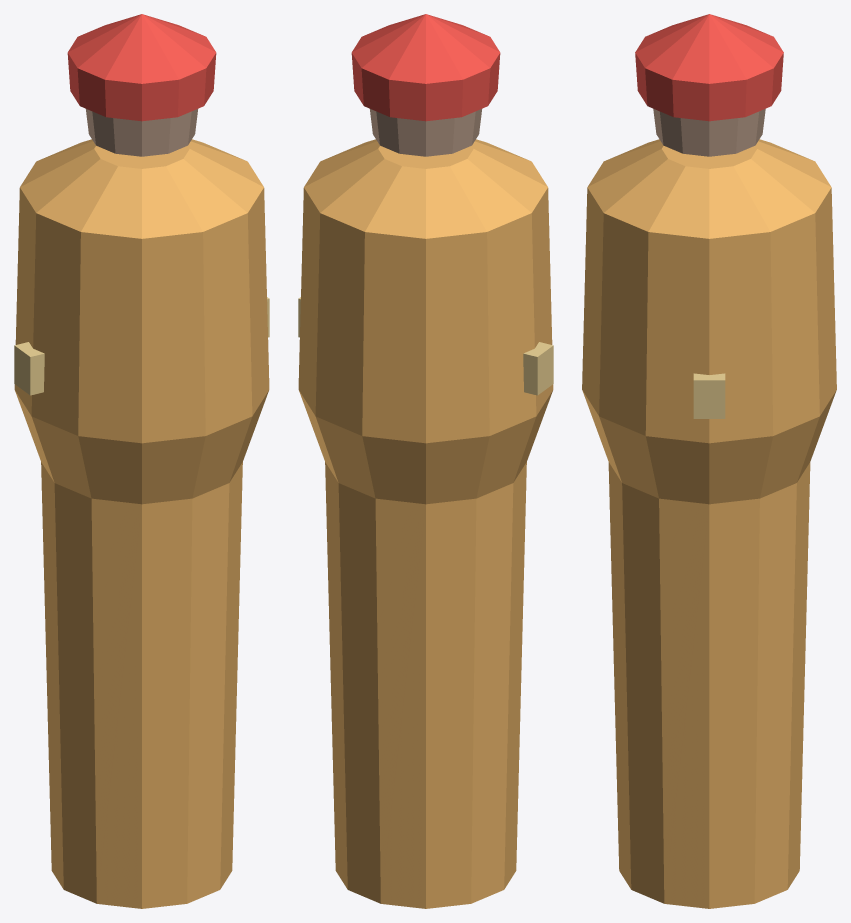
Rendered from tech_worker.fbx.
The picture shows the model from 3 angles, left to right: view 1: azimuth 30°, elevation 25°; view 2: azimuth 150°, elevation 25°; view 3: azimuth 270°, elevation 25°; orthographic projection.
Visible parts, largest first — view 1: tech_worker; view 2: tech_worker; view 3: tech_worker.
Boxes of the visible parts, x1=… form: tech_worker: x1=14, y1=14, x2=269, y2=908; tech_worker: x1=298, y1=14, x2=553, y2=908; tech_worker: x1=582, y1=14, x2=836, y2=908.
Bounding box in the file's own units: 0.52 × 1.78 × 0.48.
